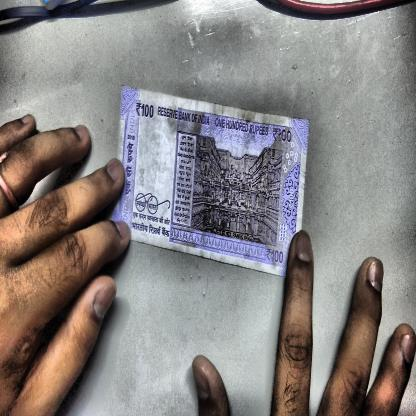Rs100: (133, 98, 158, 124), (263, 243, 287, 270)
